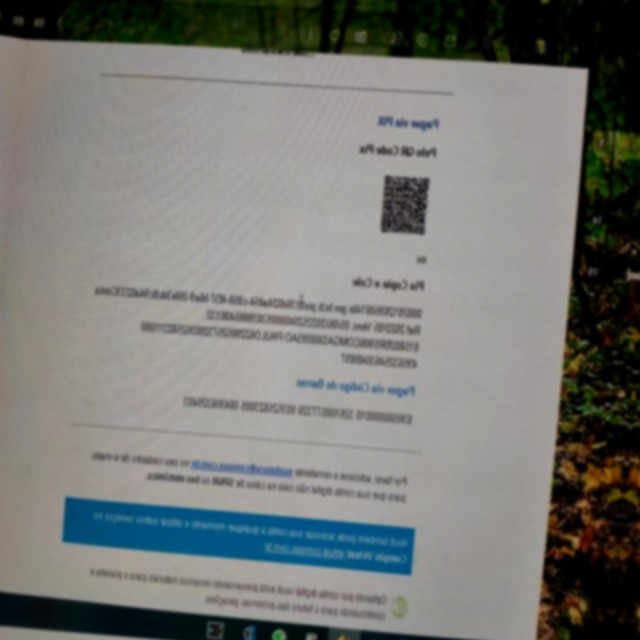qr-code: (379, 173, 430, 236)
